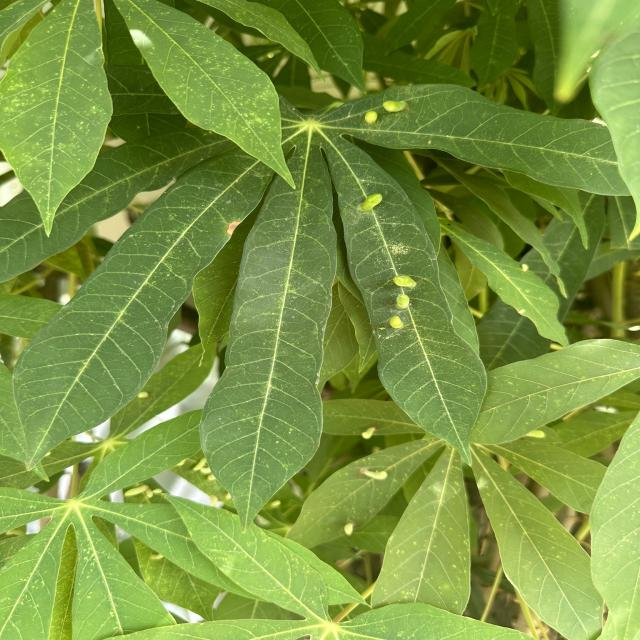Mosca: (381, 274, 432, 340), (357, 86, 418, 136), (113, 475, 169, 508), (178, 445, 223, 483), (354, 186, 401, 221), (355, 456, 396, 492), (519, 413, 556, 450), (334, 520, 376, 549), (345, 417, 386, 444), (507, 258, 544, 287), (133, 541, 172, 568), (124, 384, 160, 407), (262, 483, 285, 510), (513, 303, 530, 324)
